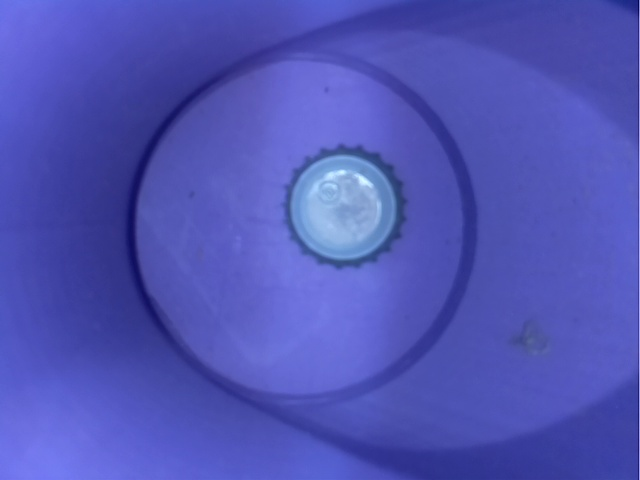capsule: (275, 129, 430, 275)
